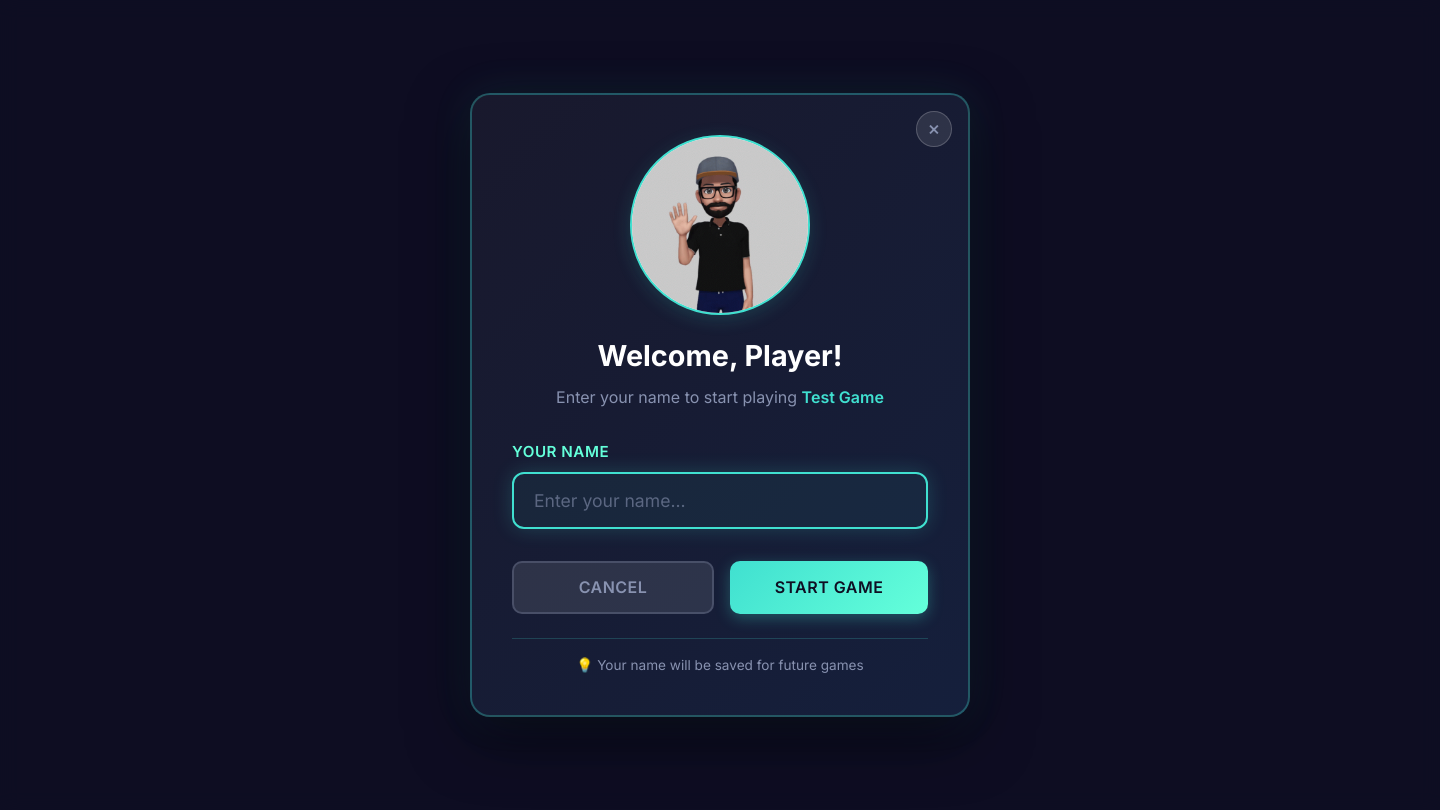
PlayerNameModal › shows error for empty name submission
The width and height of the screenshot is (1440, 810).
What coordinates should you click on to do the following:
click the button "Start Game"
I would click on:
 (829, 587)
Its box is [730,561,928,614].
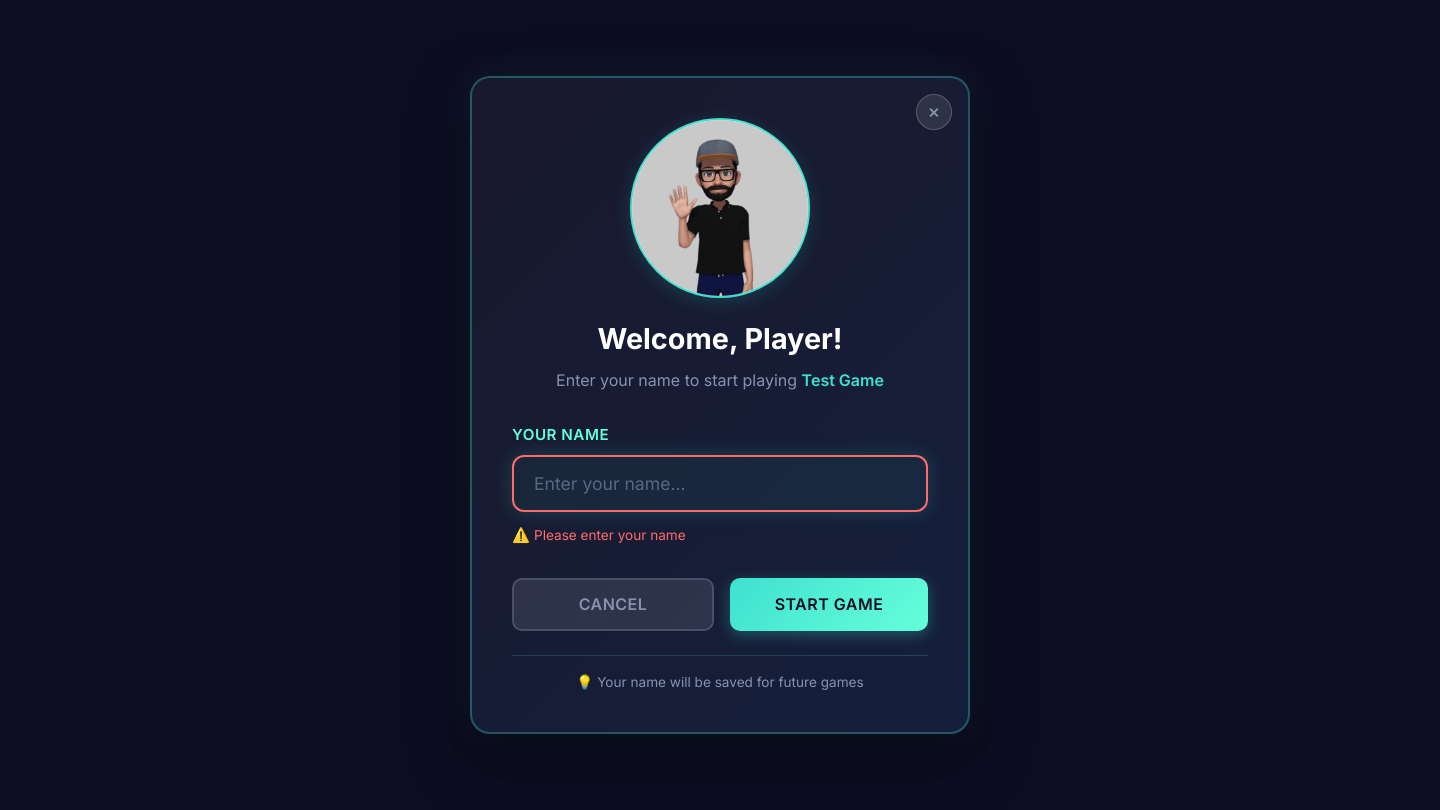
Expected: the text "Please enter your name" is shown, [534,527,686,543]
